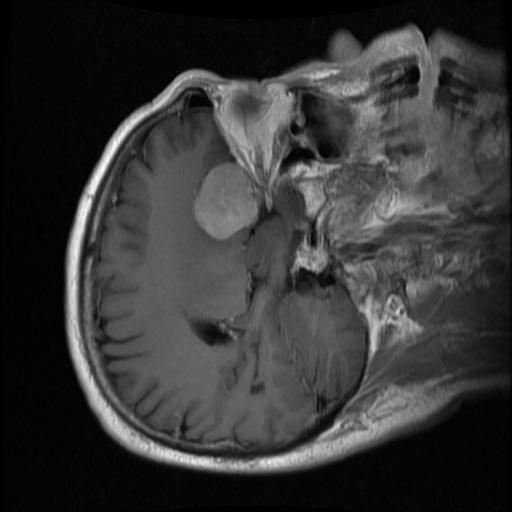meningioma: (195, 161, 257, 242)
